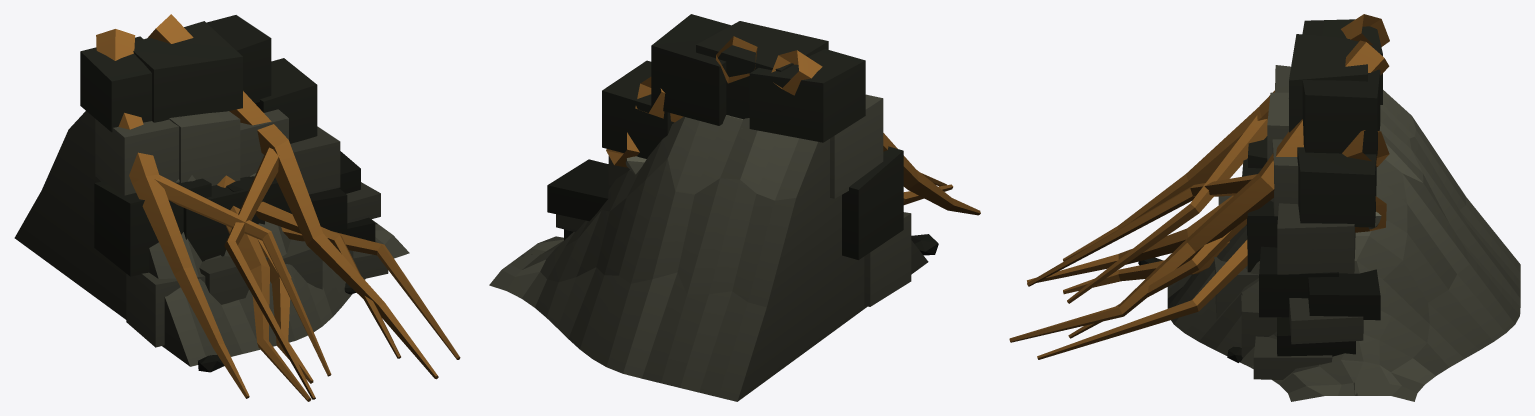
File: cliff-gleba-exit.glb
3 renders of one model, left to right at view 1: azimuth 30°, elevation 25°; view 2: azimuth 150°, elevation 25°; view 3: azimuth 270°, elevation 25°, orthographic. The views are drawn at different scales.
Parts seen in each view (by area): view 1: cliff-gleba-exit; view 2: cliff-gleba-exit; view 3: cliff-gleba-exit.
Part boxes in pixels (x1=…): cliff-gleba-exit: x1=14, y1=14, x2=460, y2=401; cliff-gleba-exit: x1=489, y1=14, x2=980, y2=401; cliff-gleba-exit: x1=1009, y1=14, x2=1520, y2=401.
Size of the model in its own units: 3.2 by 2.66 by 4.71.
